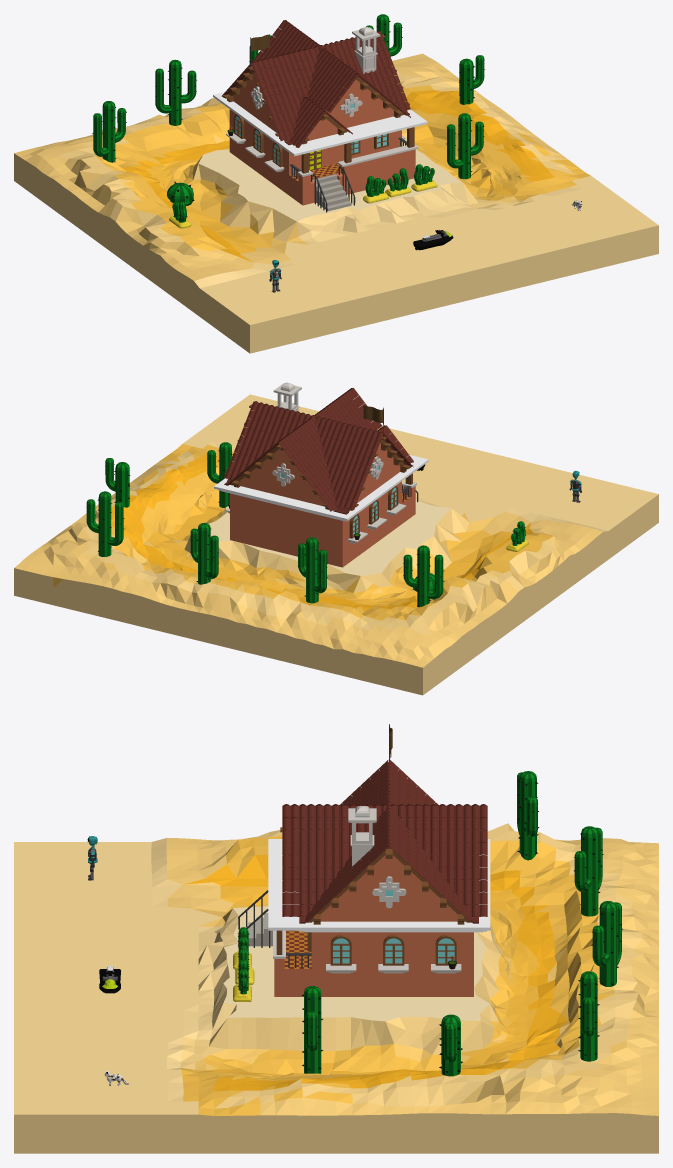
3 renders of one model, top to bottom at view 1: azimuth 30°, elevation 25°; view 2: azimuth 150°, elevation 25°; view 3: azimuth 270°, elevation 25°, orthographic. The views are drawn at different scales.
Visible parts, largest first — view 1: Cube.001, Cube.1141, Cylinder.044, Cylinder.037, Cylinder.045, Cylinder.038, Cylinder.042, Cylinder.041, Cylinder.039, Sphere.023, Cylinder.040; view 2: Cube.001, Cube.1141, Cylinder.042, Cylinder.045, Cylinder.044, Cylinder.043, Cylinder.038, Cylinder.037; view 3: Cube.001, Cube.1141, Cylinder.044, Cylinder.043, Cylinder.045, Cylinder.042, Cylinder.037, Cylinder.038.
Part boxes in pixels (x1,y1,x2,y2): Cube.001: (14,53,658,353); Cube.1141: (213,20,427,212); Cylinder.044: (155,59,196,125); Cylinder.037: (446,113,484,179); Cylinder.045: (92,101,126,162); Cylinder.038: (459,55,484,104); Cylinder.042: (366,14,402,58); Cylinder.041: (411,164,437,191); Cylinder.039: (363,176,388,203); Sphere.023: (167,181,194,205); Cylinder.040: (385,168,411,197); Cube.001: (14,394,658,695); Cube.1141: (214,382,428,567); Cylinder.042: (86,491,124,556); Cylinder.045: (403,545,444,607); Cylinder.044: (298,537,327,603); Cylinder.043: (190,522,218,584); Cylinder.038: (105,458,130,507); Cylinder.037: (207,442,232,507); Cube.001: (14,823,658,1153); Cube.1141: (238,724,490,996); Cylinder.044: (574,826,603,916); Cylinder.043: (591,901,622,986); Cylinder.045: (517,771,539,860); Cylinder.042: (578,971,599,1061); Cylinder.037: (302,986,323,1073); Cylinder.038: (439,1014,462,1076).
Size of the model in its own units: 4002 by 1785 by 4001.
35 materials, 2 textured.
